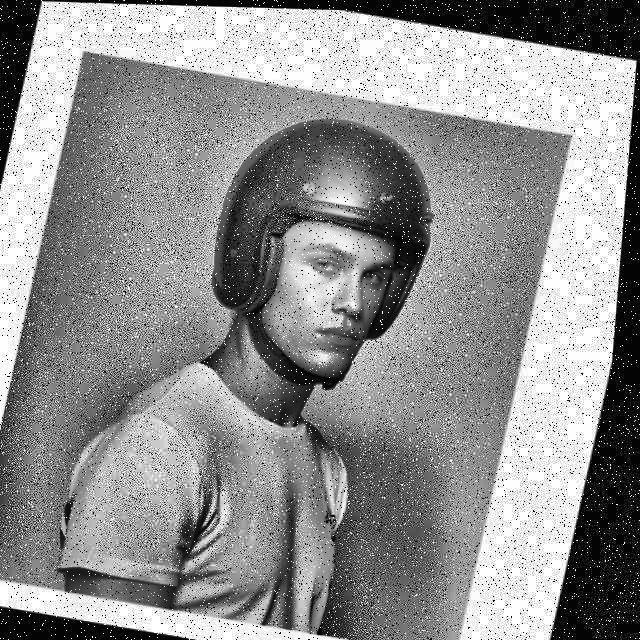Helmet: (172, 86, 475, 417)
